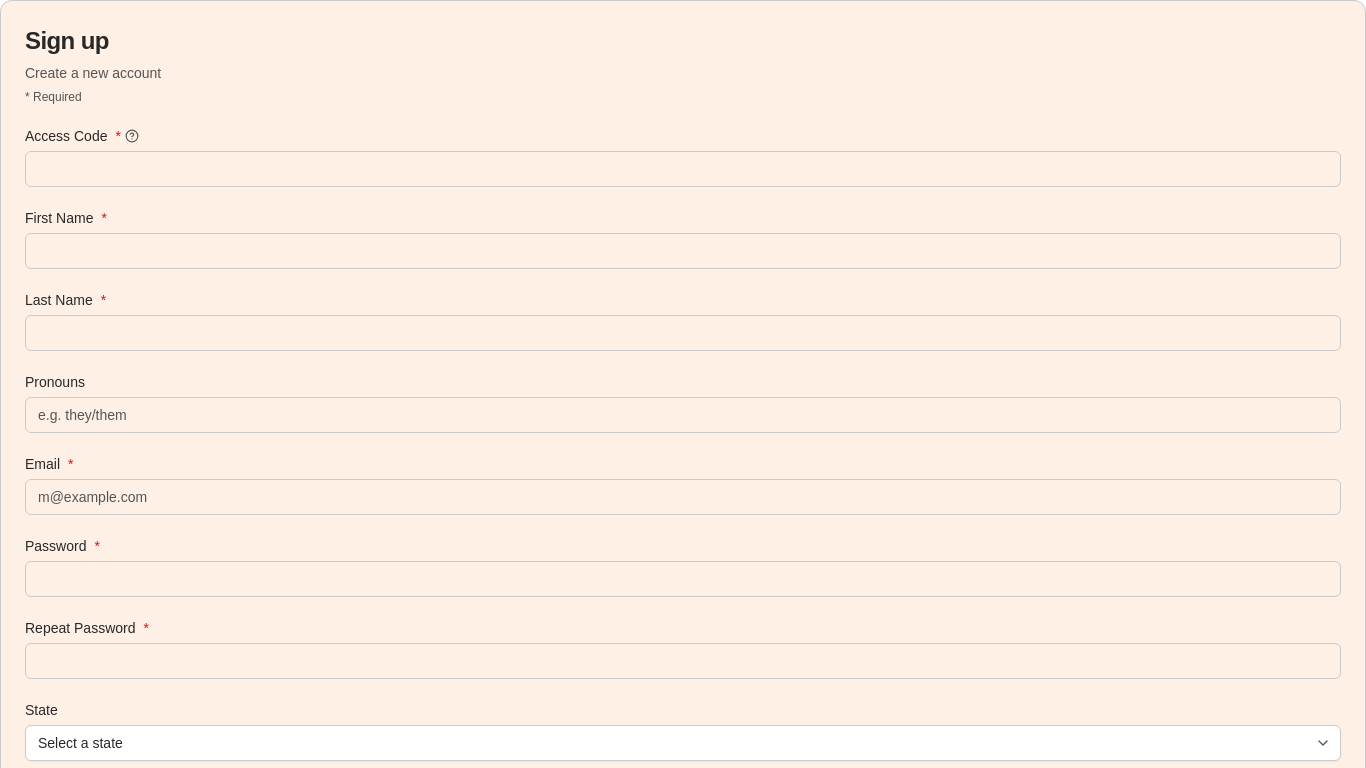
it: SignUpForm › shows an error when passwords do not match
The image size is (1366, 768).
Type "test-code" into the field labelled "Access Code *". click: (683, 169)
box: [25,151,1341,187]
Type "Alice" into the field labelled "First Name *". click: (683, 251)
box: [25,233,1341,269]
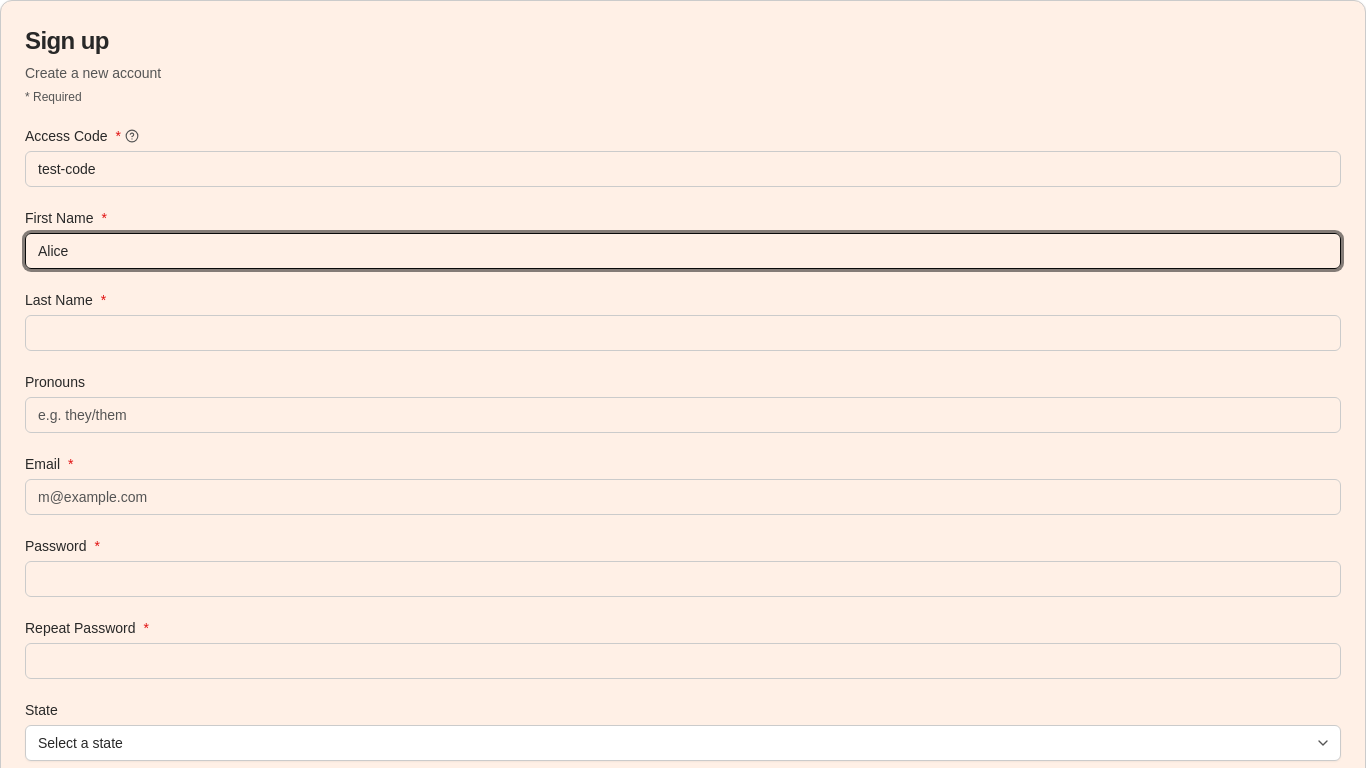
Type "Smith" into the field labelled "Last Name *". click: (683, 333)
box: [25,315,1341,351]
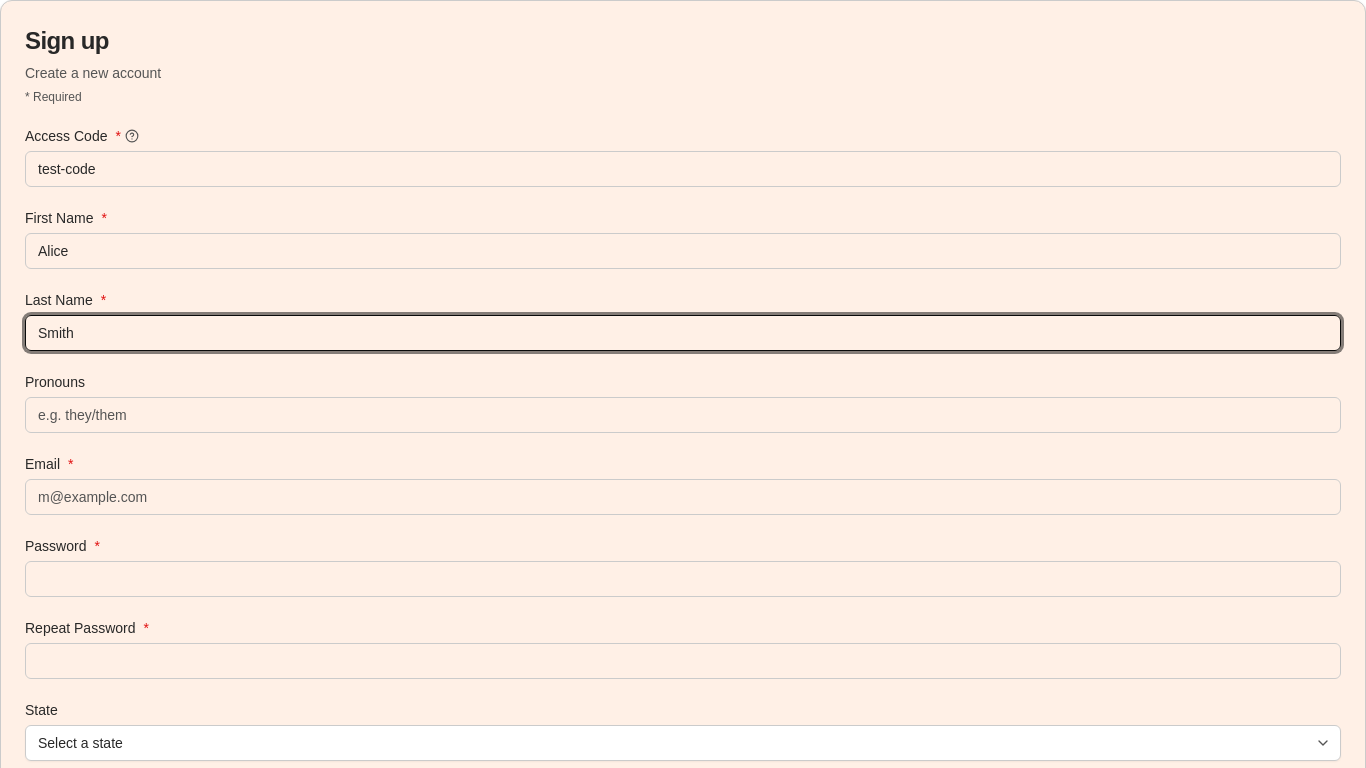
Type "alice@example.com" into the field labelled "Email *". click: (683, 497)
box: [25,479,1341,515]
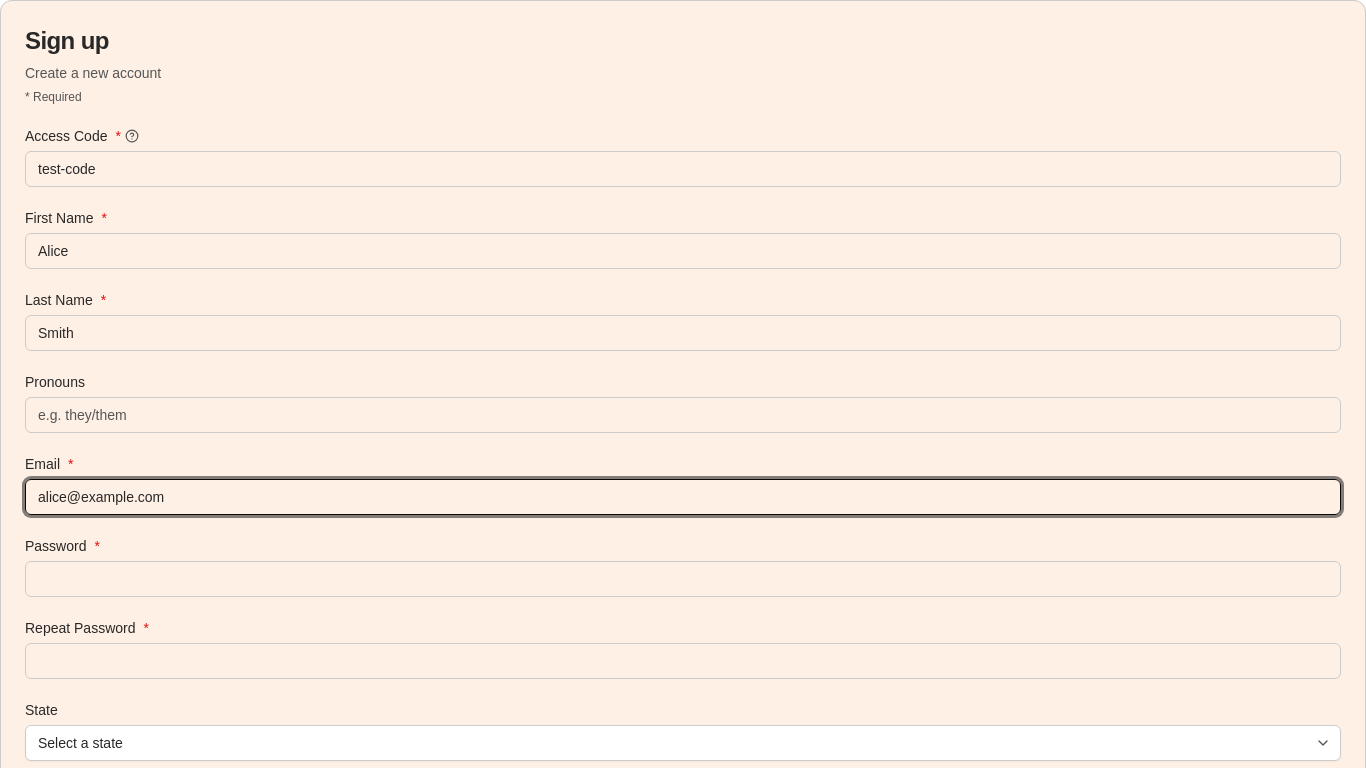
Type "Password123" into the password field labelled "Password *". click: (683, 579)
box: [25,561,1341,597]
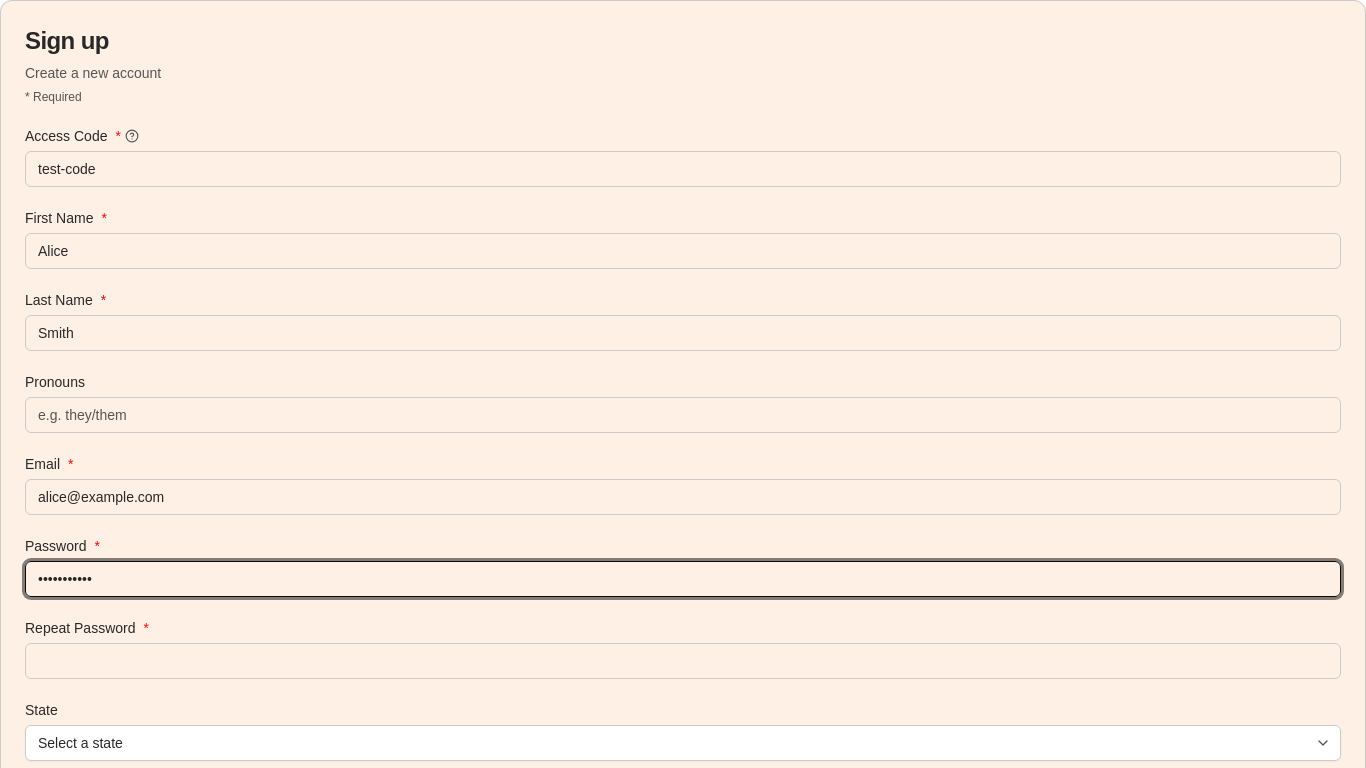
Type "Different123" into the password field labelled "Repeat Password *". click: (683, 661)
box: [25,643,1341,679]
(page scrolled)
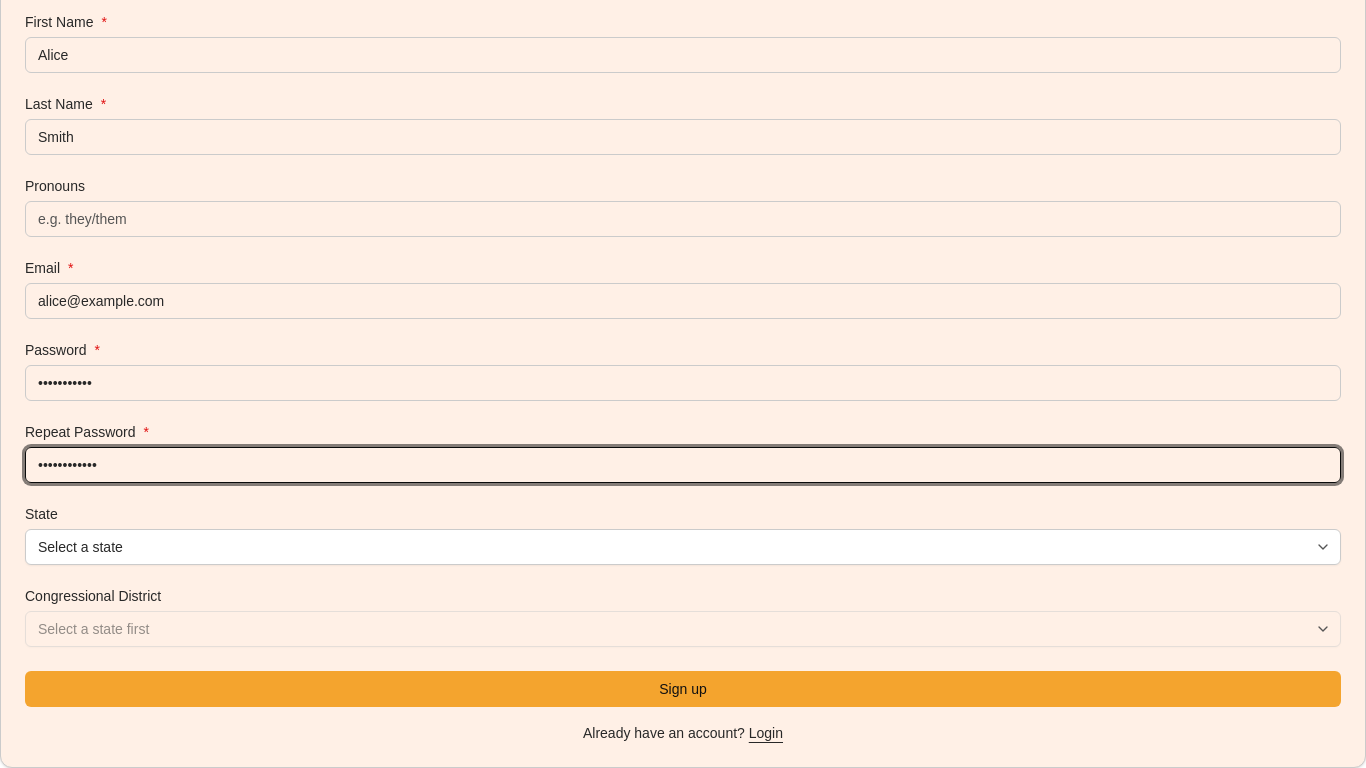
Click the button "Sign up". click: (683, 689)
box: [25,671,1341,707]
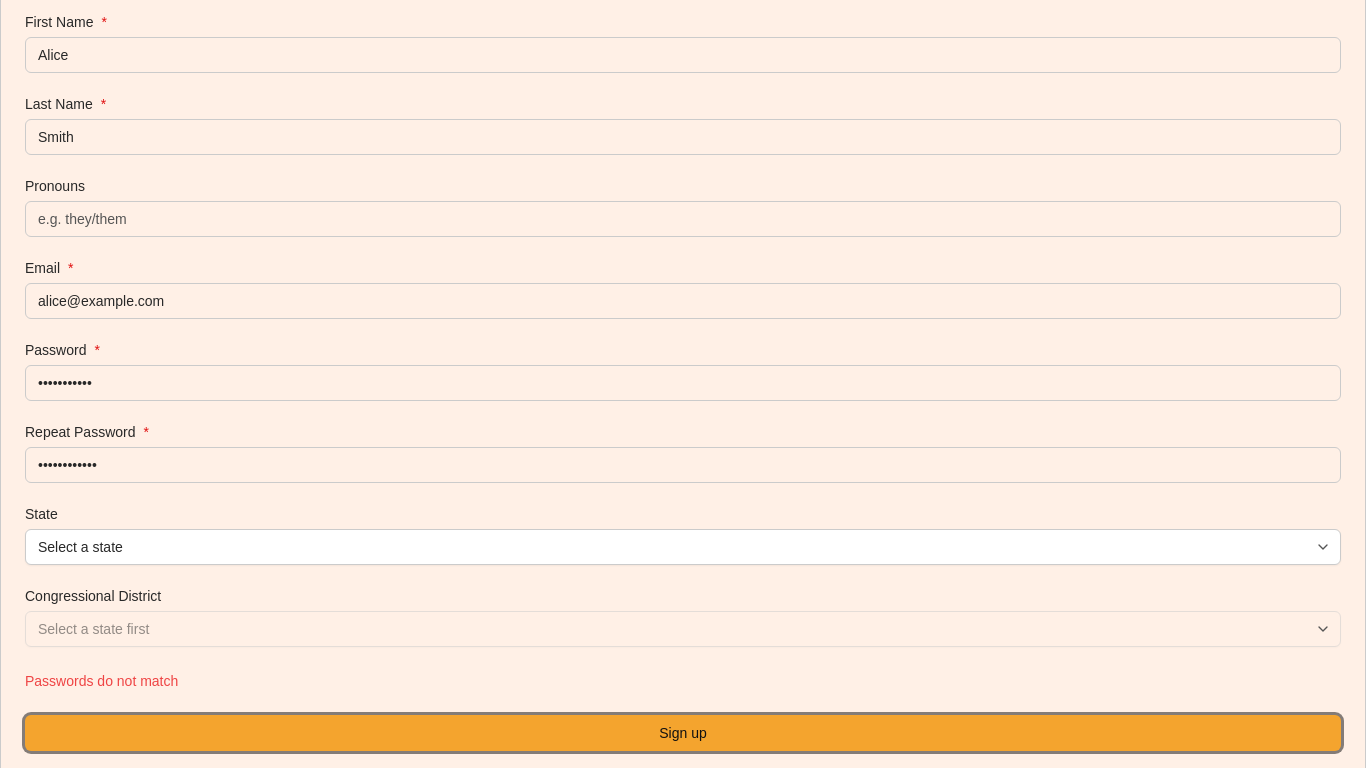
Expected: the text "Passwords do not match" is shown, [25,673,178,689]
